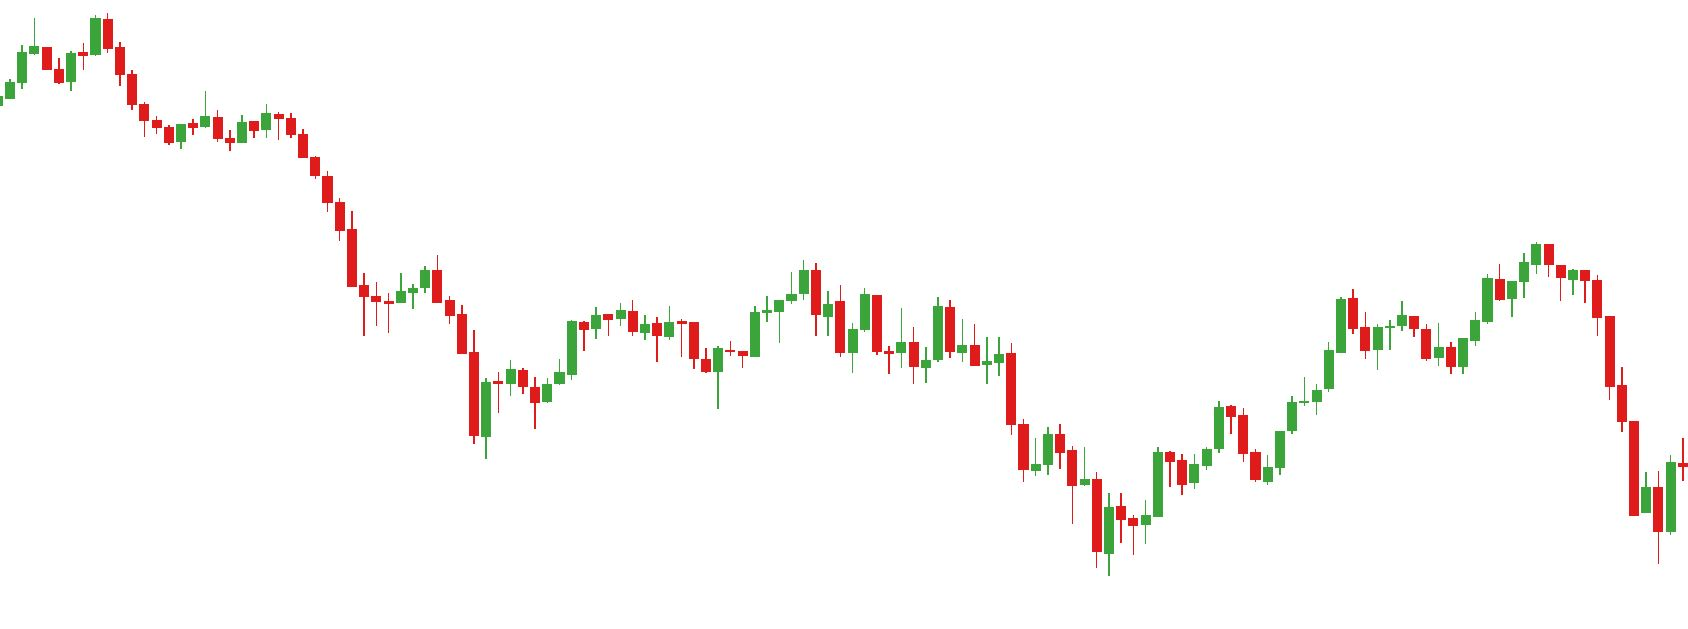sell: (652, 256, 824, 347), (28, 9, 114, 72)
